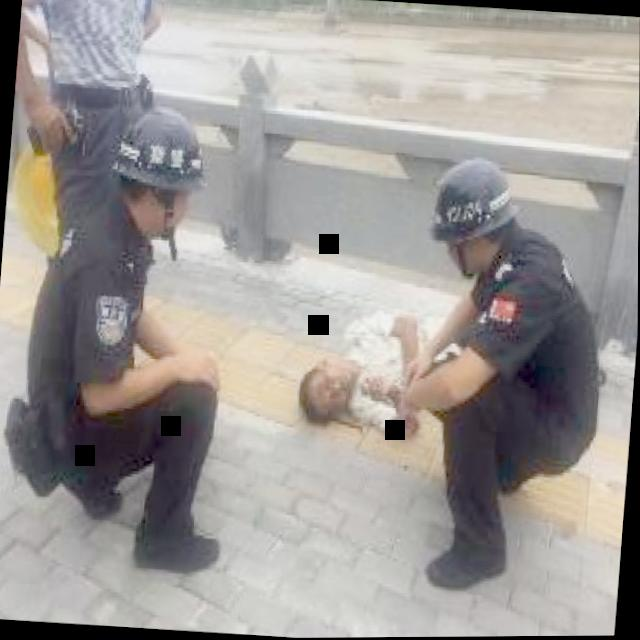Fall-Detected: (284, 279, 471, 448)
